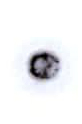cancer: (13, 33, 77, 96)
